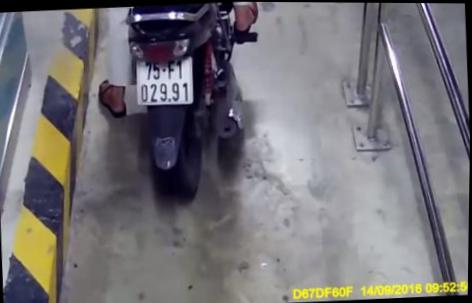LP: (134, 56, 195, 109)
